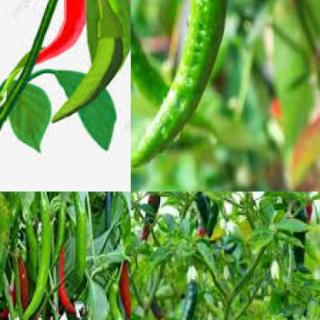green_chilli: (130, 0, 231, 172), (131, 0, 221, 145), (49, 33, 129, 125), (20, 203, 53, 319), (168, 276, 204, 320), (288, 206, 312, 272), (70, 208, 88, 278), (50, 207, 70, 270), (24, 219, 40, 287), (103, 282, 130, 319), (206, 203, 224, 236), (192, 195, 208, 229), (123, 203, 130, 257)
